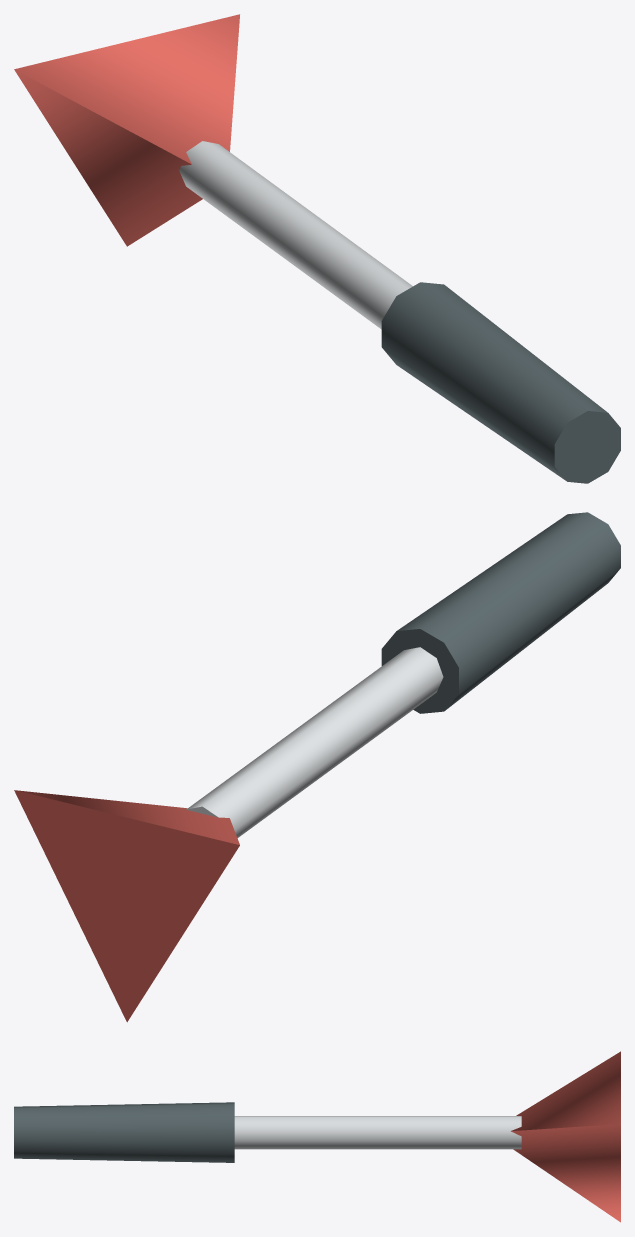
Rendered from item_refleks_cekici.glb.
The picture shows the model from 3 angles, top to bottom: view 1: azimuth 30°, elevation 25°; view 2: azimuth 150°, elevation 25°; view 3: azimuth 270°, elevation 25°; orthographic projection. The views are drawn at different scales.
Parts seen in each view (by area): view 1: refleks_cekici; view 2: refleks_cekici; view 3: refleks_cekici.
Boxes of the visible parts, x1,y1,x2,y2 form: refleks_cekici: (14, 14, 620, 483); refleks_cekici: (14, 512, 620, 1022); refleks_cekici: (14, 1051, 620, 1222).
Size of the model in its own units: 0.0779 by 0.0675 by 0.275.
